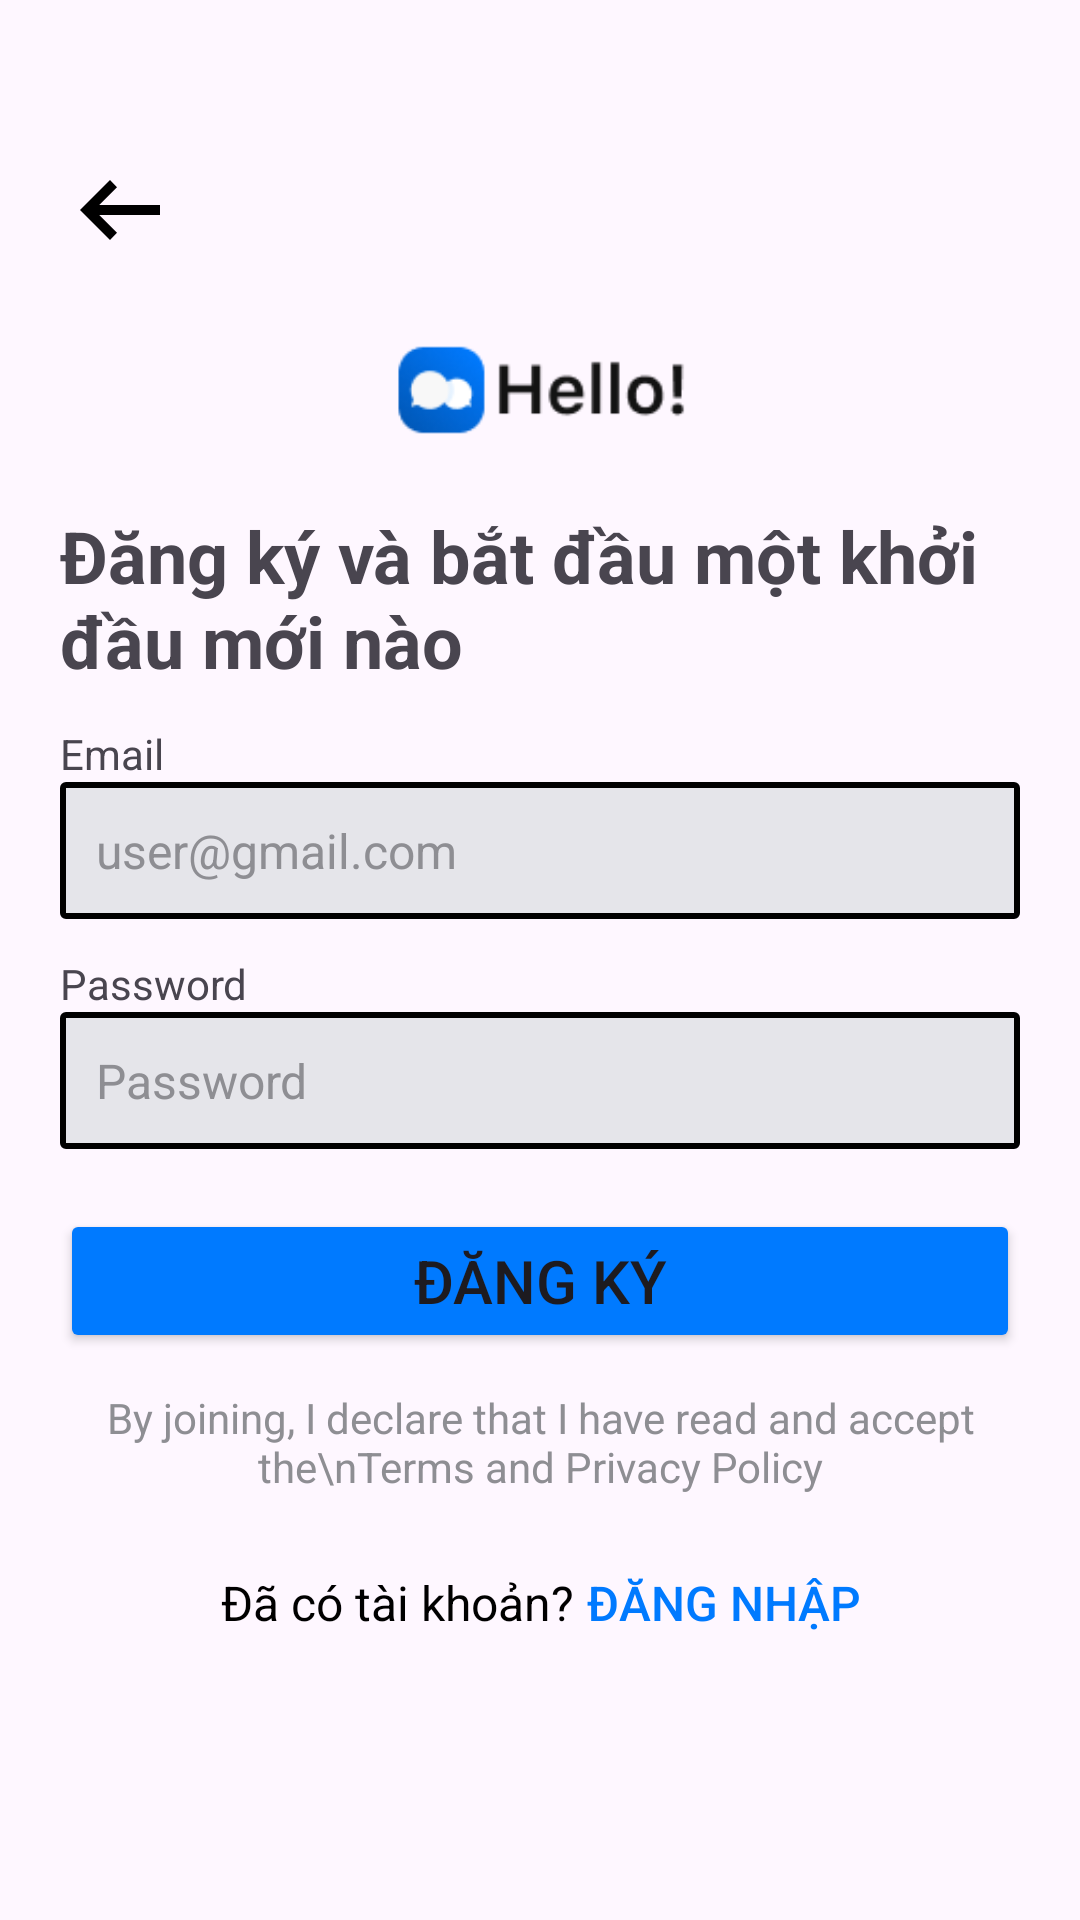

Screen size 1080px x 1920px. Icon name, then its center in pixels as [x,y]:
arrow left: [120,210]
